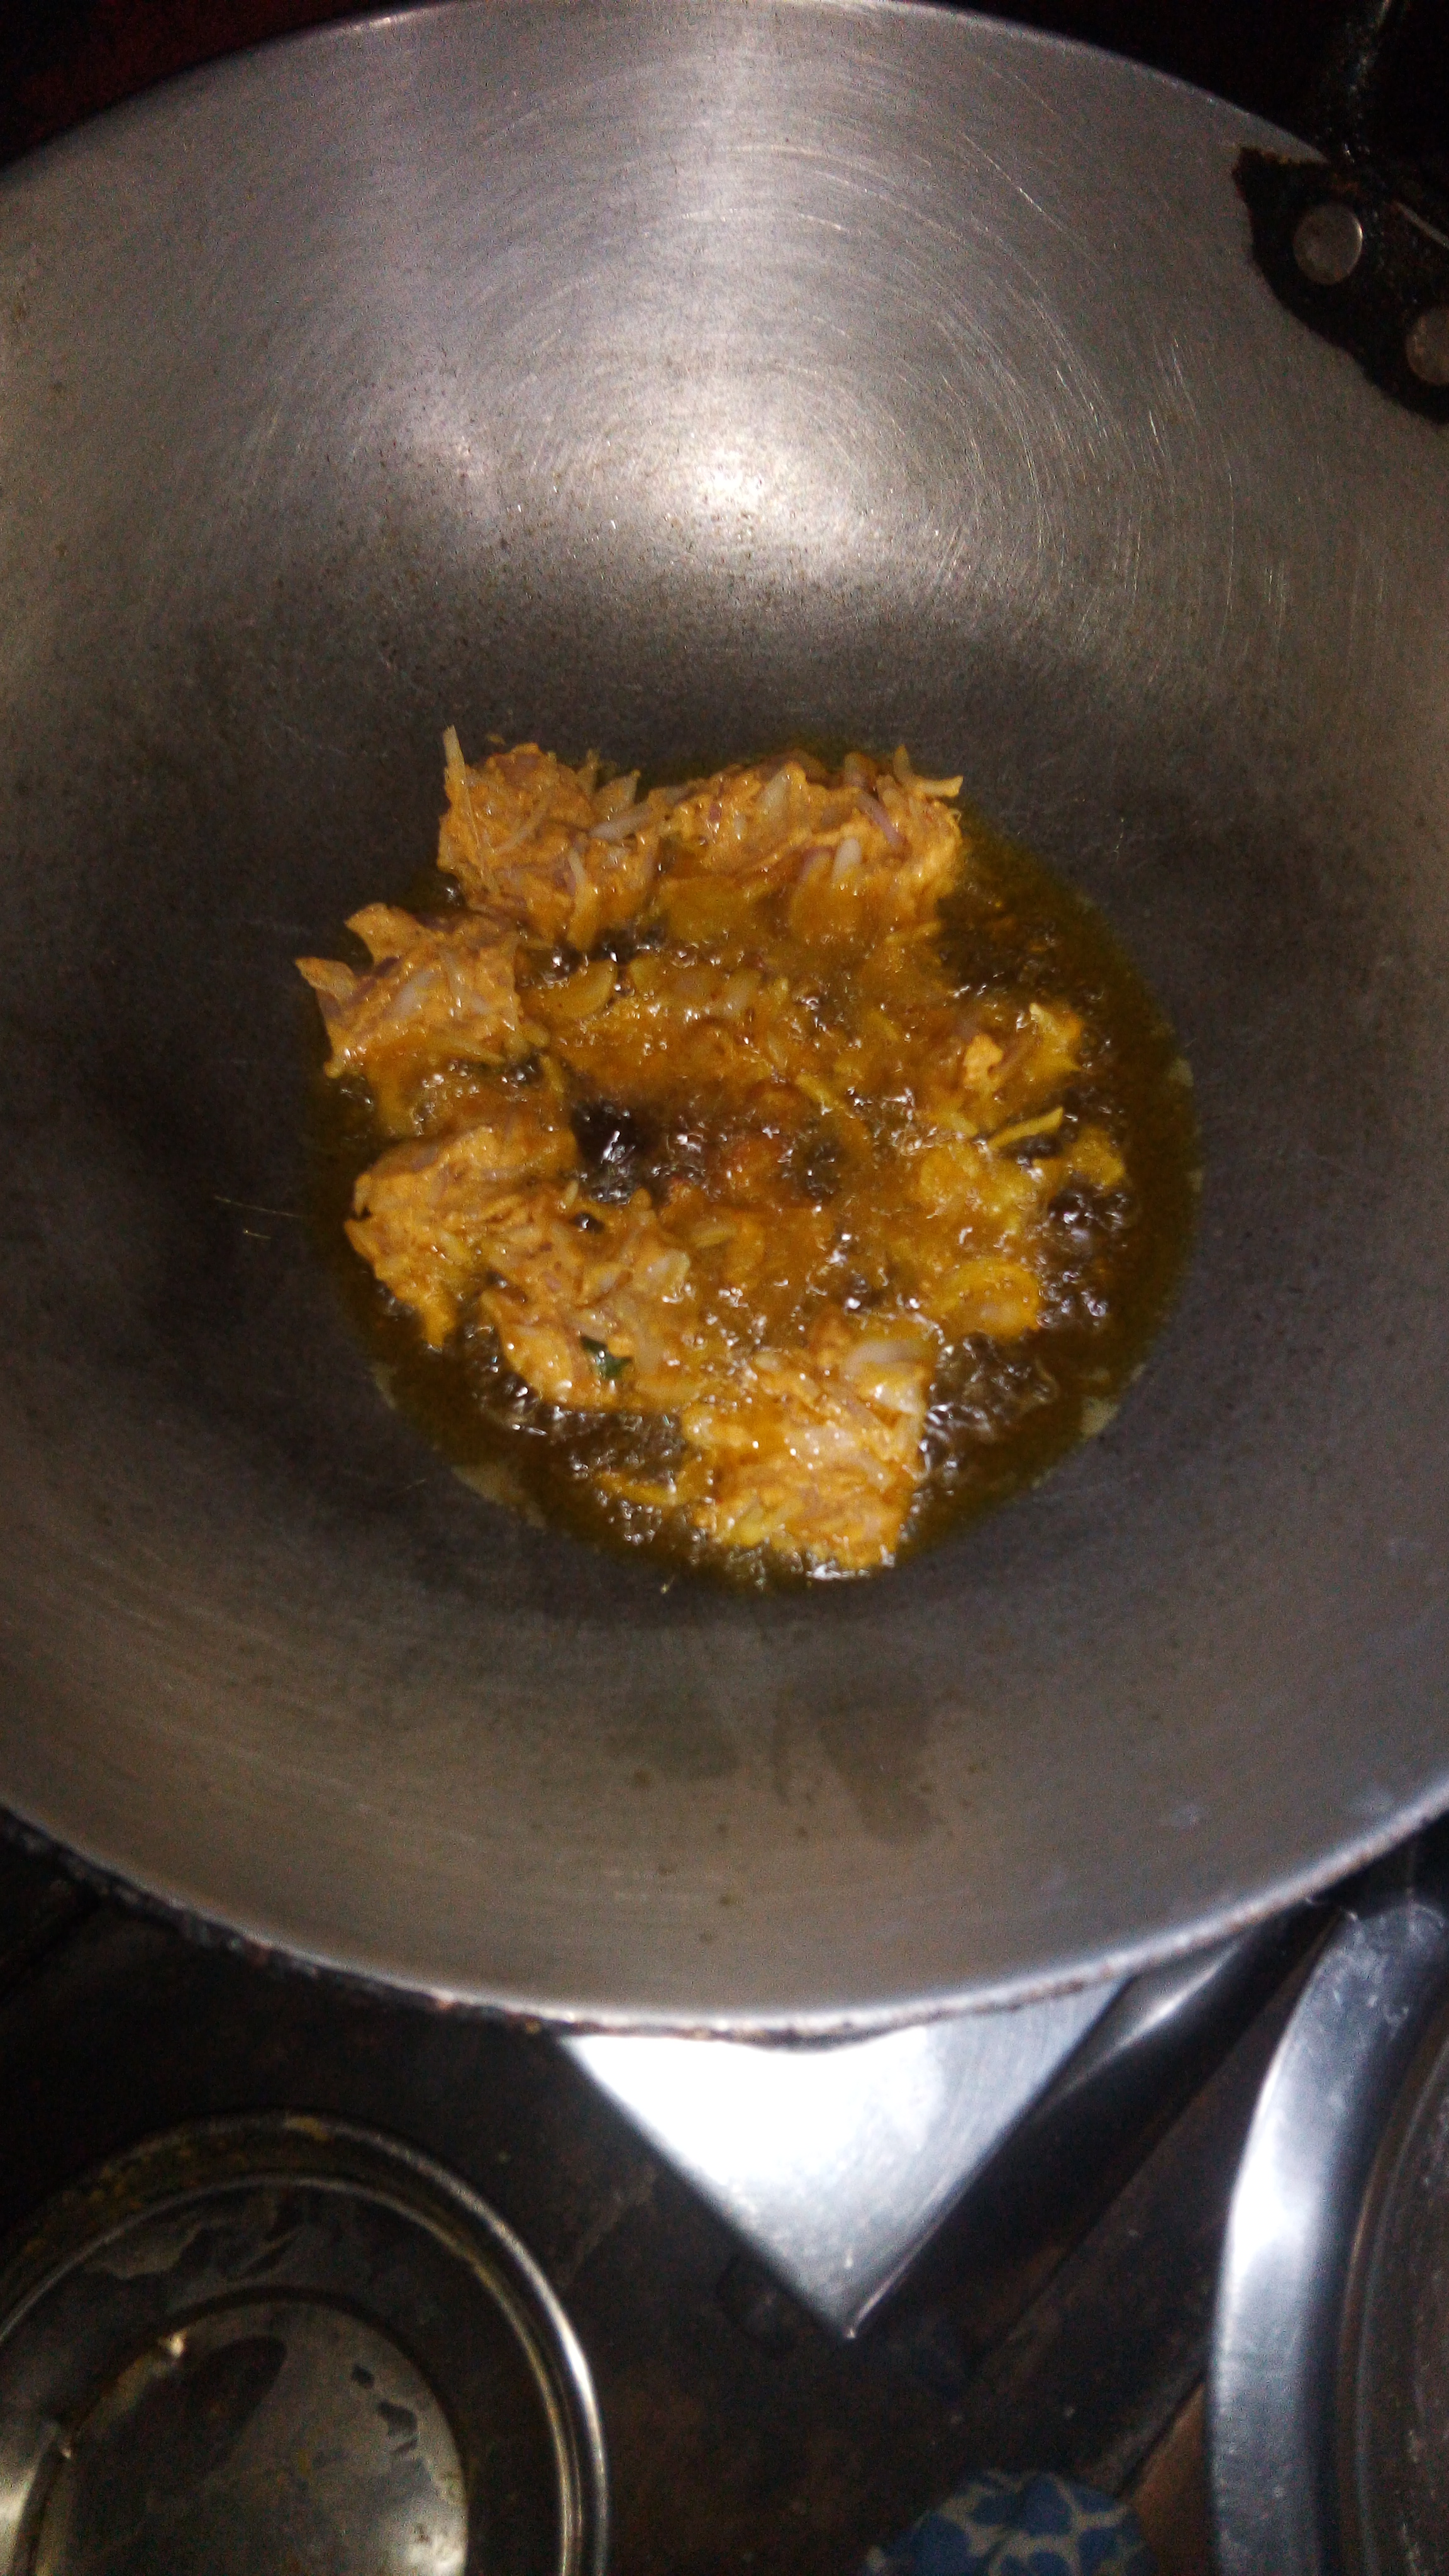food: (285, 715, 1226, 1614)
